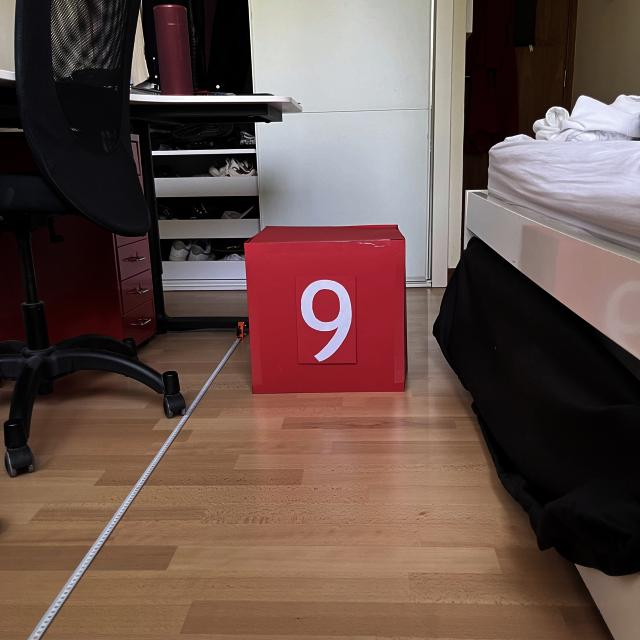box: (240, 221, 410, 396)
